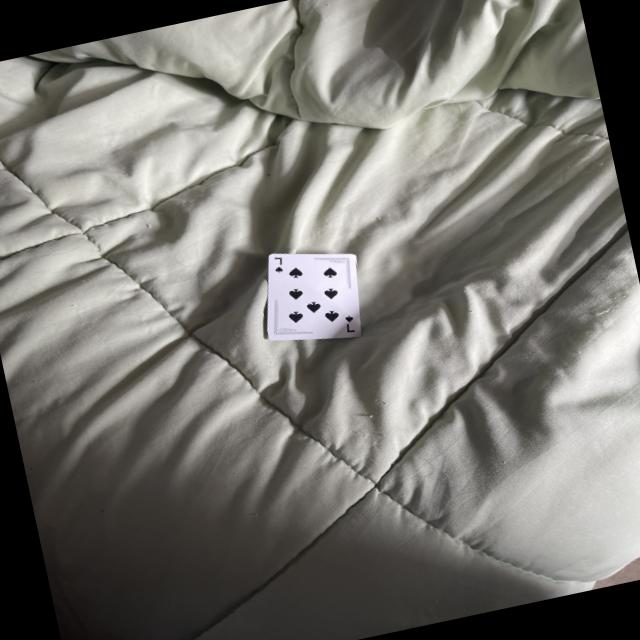7 of spades: (269, 254, 361, 338)
